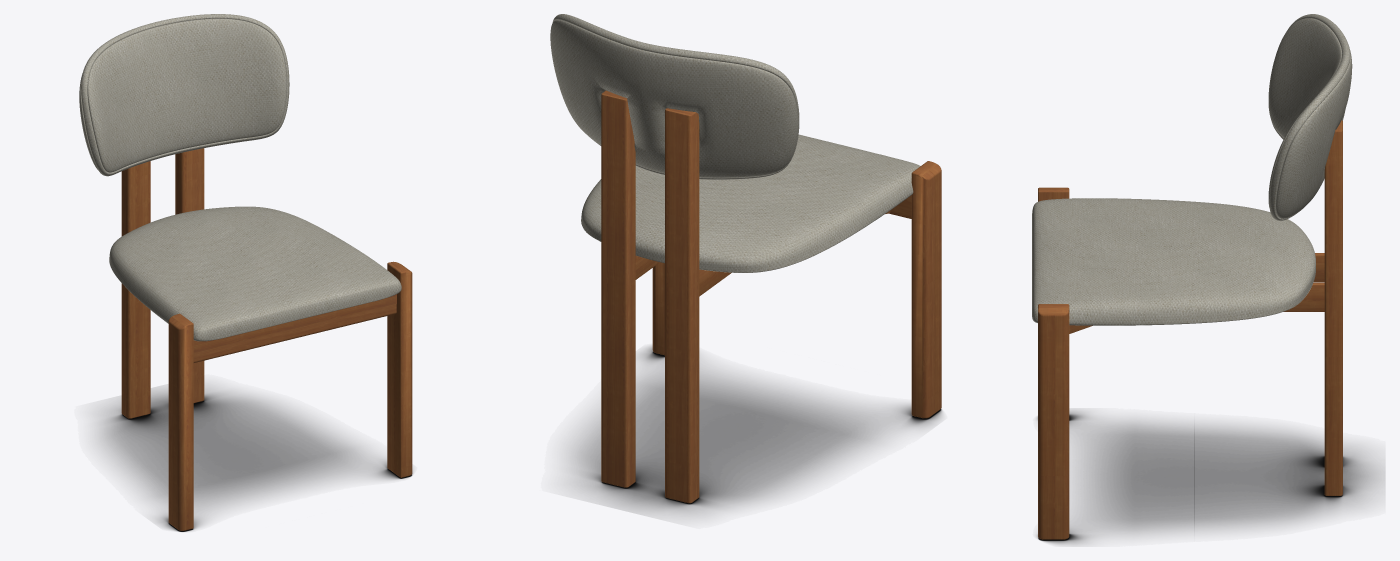
The model's file is Lugo.glb.
3 views of the same model, side by side, from view 1: azimuth 30°, elevation 25°; view 2: azimuth 150°, elevation 25°; view 3: azimuth 270°, elevation 25° (orthographic). The views are drawn at different scales.
Parts seen in each view (by area): view 1: backseat, legs, Shadow.002; view 2: backseat, legs, Shadow.002; view 3: backseat, Shadow.002, legs.
Boxes of the visible parts, x1,y1,x2,y2 form: backseat: (79,14,401,341); legs: (121,148,412,530); Shadow.002: (99,387,412,531); backseat: (550,14,920,272); legs: (601,90,941,503); Shadow.002: (570,346,941,515); backseat: (1032,14,1352,325); Shadow.002: (1037,410,1384,544); legs: (1038,120,1342,539).
Size of the model in its own units: 0.55 by 0.7857 by 0.64.
Materials: 4 (4 with a texture image).
